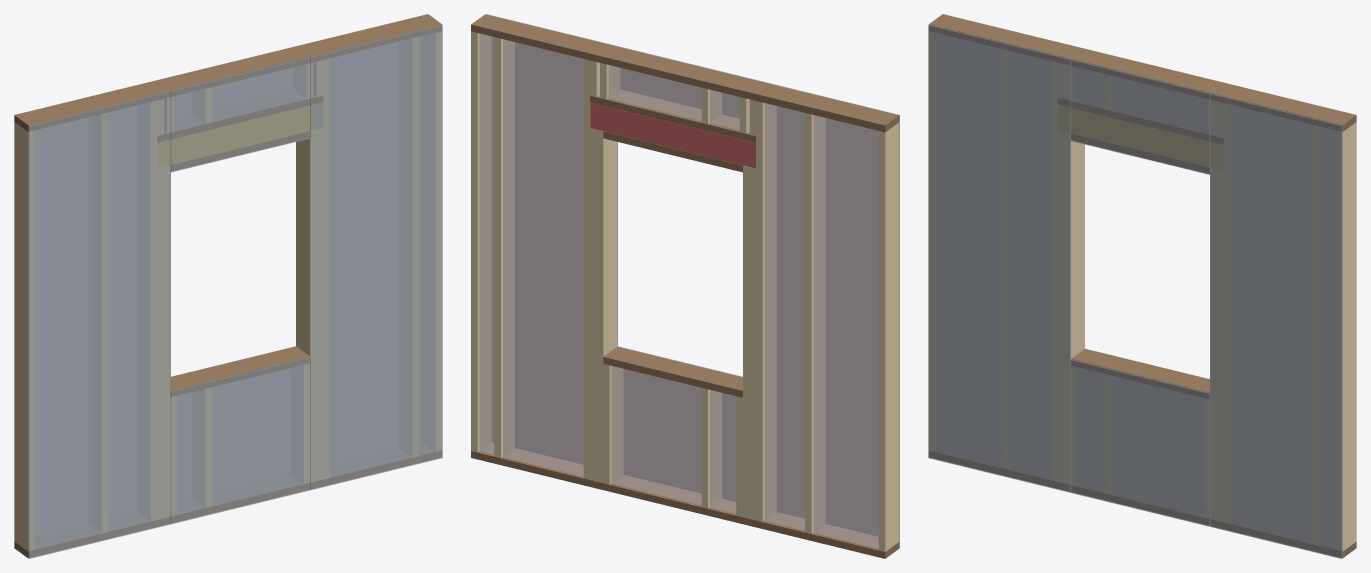
The picture shows the model from 3 angles, left to right: view 1: azimuth 30°, elevation 25°; view 2: azimuth 150°, elevation 25°; view 3: azimuth 330°, elevation 25°; orthographic projection.
Visible parts, largest first — view 1: EX9 FF; view 2: EX9 FF; view 3: EX9 FF.
Part boxes in pixels (<box>): EX9 FF: <box>14,14,442,558</box>; EX9 FF: <box>471,14,899,558</box>; EX9 FF: <box>928,14,1356,558</box>.
Size of the model in its own units: 2.4 by 2.4 by 0.149.
